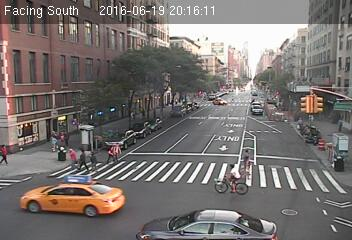neg: (220, 159, 249, 198), (161, 188, 180, 215), (300, 88, 319, 113), (178, 121, 197, 146), (110, 49, 129, 74), (60, 63, 79, 88), (224, 47, 242, 71), (184, 68, 202, 91), (306, 128, 323, 150), (281, 205, 297, 227), (153, 89, 169, 110), (105, 189, 120, 210), (249, 89, 264, 109), (32, 56, 46, 75), (332, 156, 346, 175), (211, 93, 224, 110), (23, 113, 34, 128)
pos: (238, 146, 256, 169), (75, 146, 92, 169), (64, 145, 80, 166), (103, 145, 118, 165), (88, 152, 101, 170), (47, 129, 60, 147)
